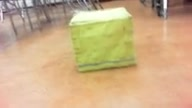cube: (68, 7, 137, 72)
